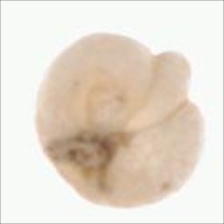L5: (104, 50, 191, 138), (40, 129, 138, 196)
L6: (32, 30, 206, 210)
